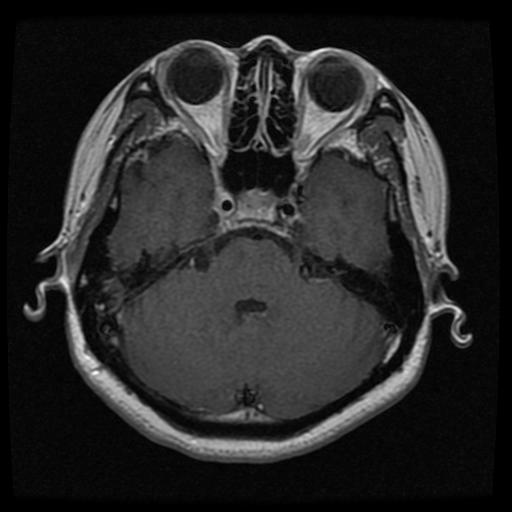Tumour-Pituitary: (210, 190, 306, 235)
